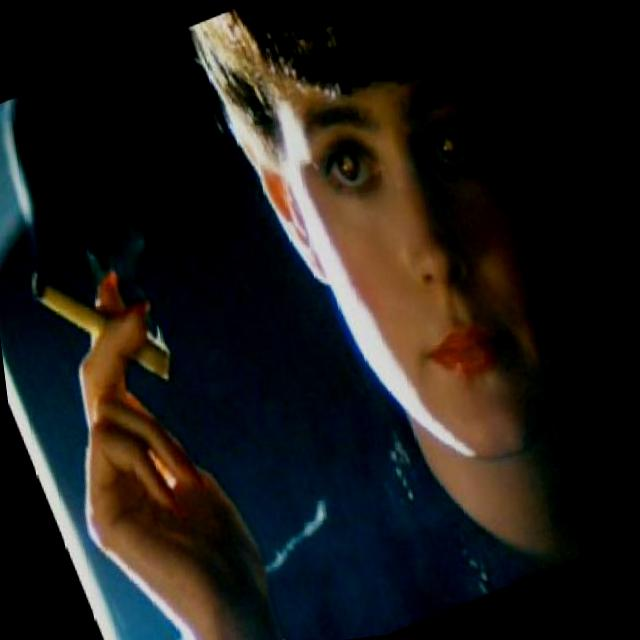cigarette: (19, 223, 274, 640)
